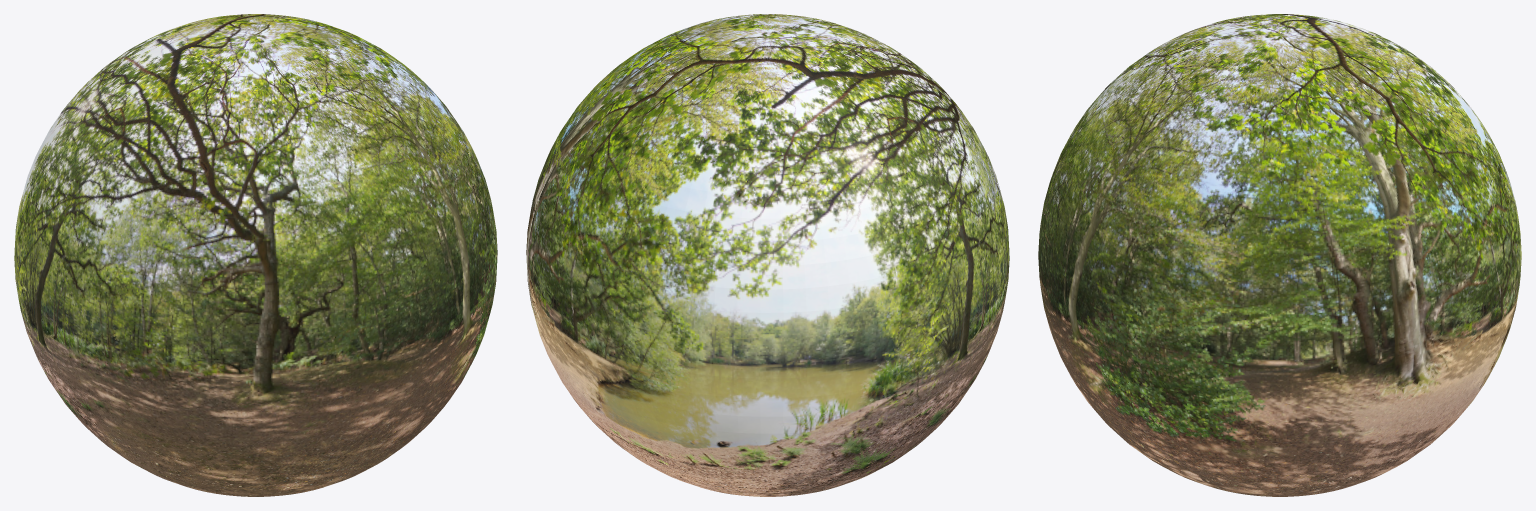
The model's file is forest_clearing.glb.
3 renders of one model, left to right at view 1: azimuth 30°, elevation 25°; view 2: azimuth 150°, elevation 25°; view 3: azimuth 270°, elevation 25°, orthographic.
Parts seen in each view (by area): view 1: Forest panorama dome; view 2: Forest panorama dome; view 3: Forest panorama dome.
Boxes of the visible parts, bbox=[...] form: Forest panorama dome: bbox=[14, 14, 497, 496]; Forest panorama dome: bbox=[526, 14, 1009, 496]; Forest panorama dome: bbox=[1038, 14, 1521, 496].
Bounding box in the file's own units: 800 × 800 × 800.
Materials: 11 (11 with a texture image).
